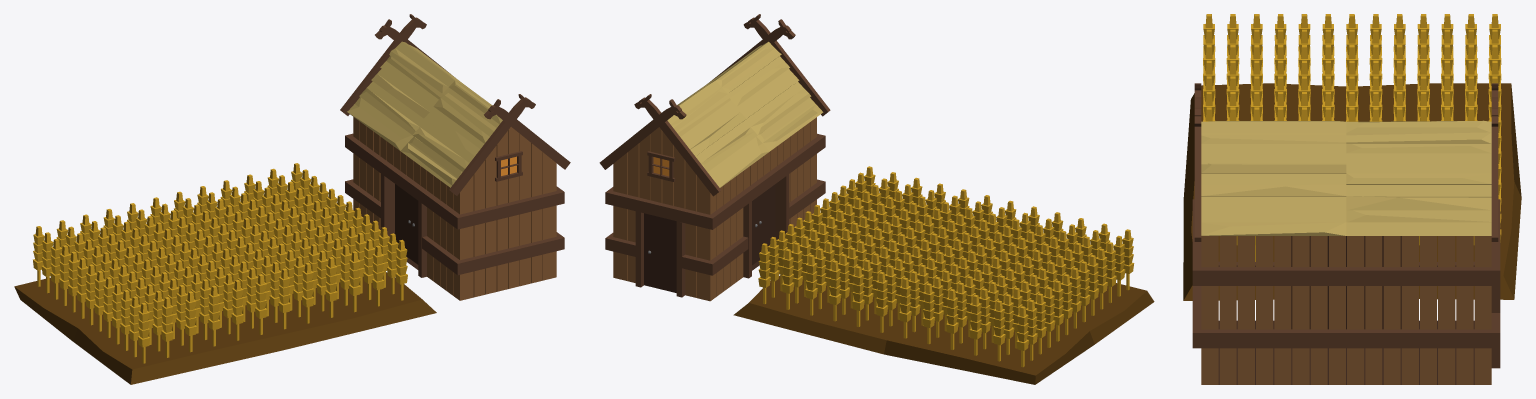
File: Farm.fbx
The picture shows the model from 3 angles, left to right: view 1: azimuth 30°, elevation 25°; view 2: azimuth 150°, elevation 25°; view 3: azimuth 270°, elevation 25°; orthographic projection. The views are drawn at different scales.
Parts seen in each view (by area): view 1: Plane.001; view 2: Plane.001; view 3: Plane.001.
Boxes of the visible parts, x1,y1,x2,y2 form: Plane.001: (14,14,570,384); Plane.001: (599,14,1154,384); Plane.001: (1183,14,1521,384).
Bounding box in the file's own units: 378 × 158 × 184.
